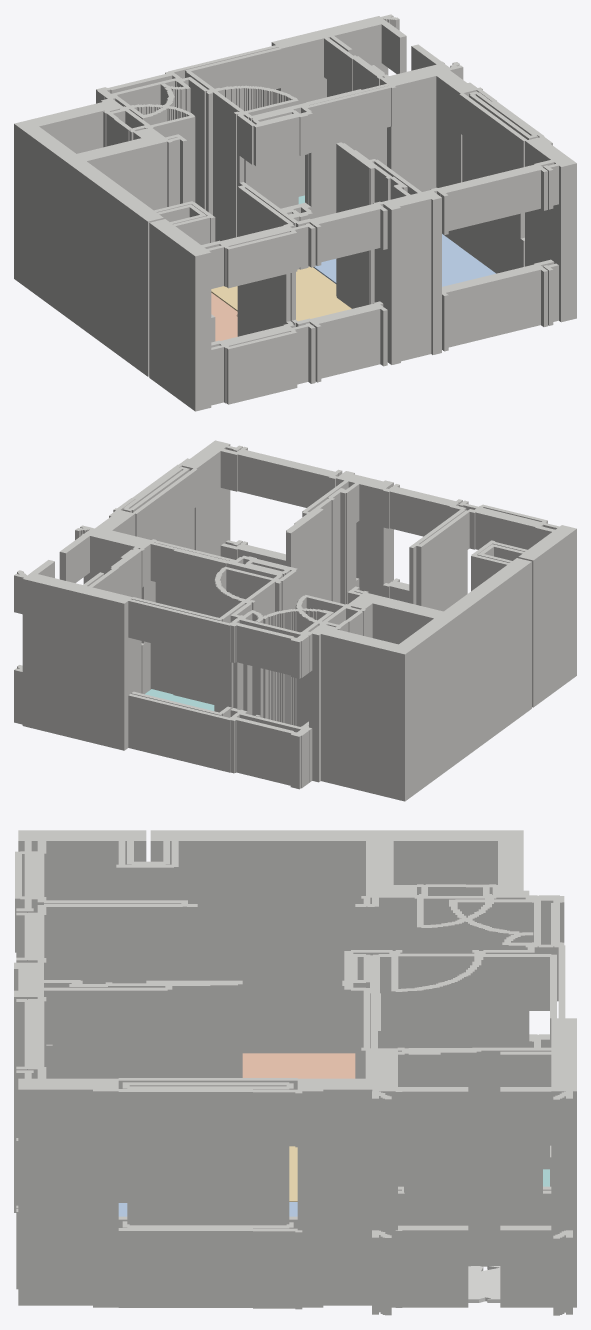
3 renders of one model, top to bottom at view 1: azimuth 30°, elevation 25°; view 2: azimuth 150°, elevation 25°; view 3: azimuth 270°, elevation 25°, orthographic. The views are drawn at different scales.
Visible parts, largest first — view 1: walls, room:living:3, room:bedroom:5, room:kitchen:0; view 2: walls, room:bath:1; view 3: walls, room:kitchen:0, room:ledge:4.
Boxes of the visible parts, box(x1,y1,x2,y2) form: walls: box(14, 14, 576, 411); room:living:3: box(211, 266, 351, 321); room:bedroom:5: box(313, 234, 495, 286); room:kitchen:0: box(211, 293, 237, 341); walls: box(14, 440, 576, 801); room:bath:1: box(145, 689, 214, 710); walls: box(14, 830, 576, 1315); room:kitchen:0: box(242, 1053, 355, 1078); room:ledge:4: box(468, 1266, 500, 1302).
Bounding box in the file's own units: 7.48 × 2.8 × 6.61.
